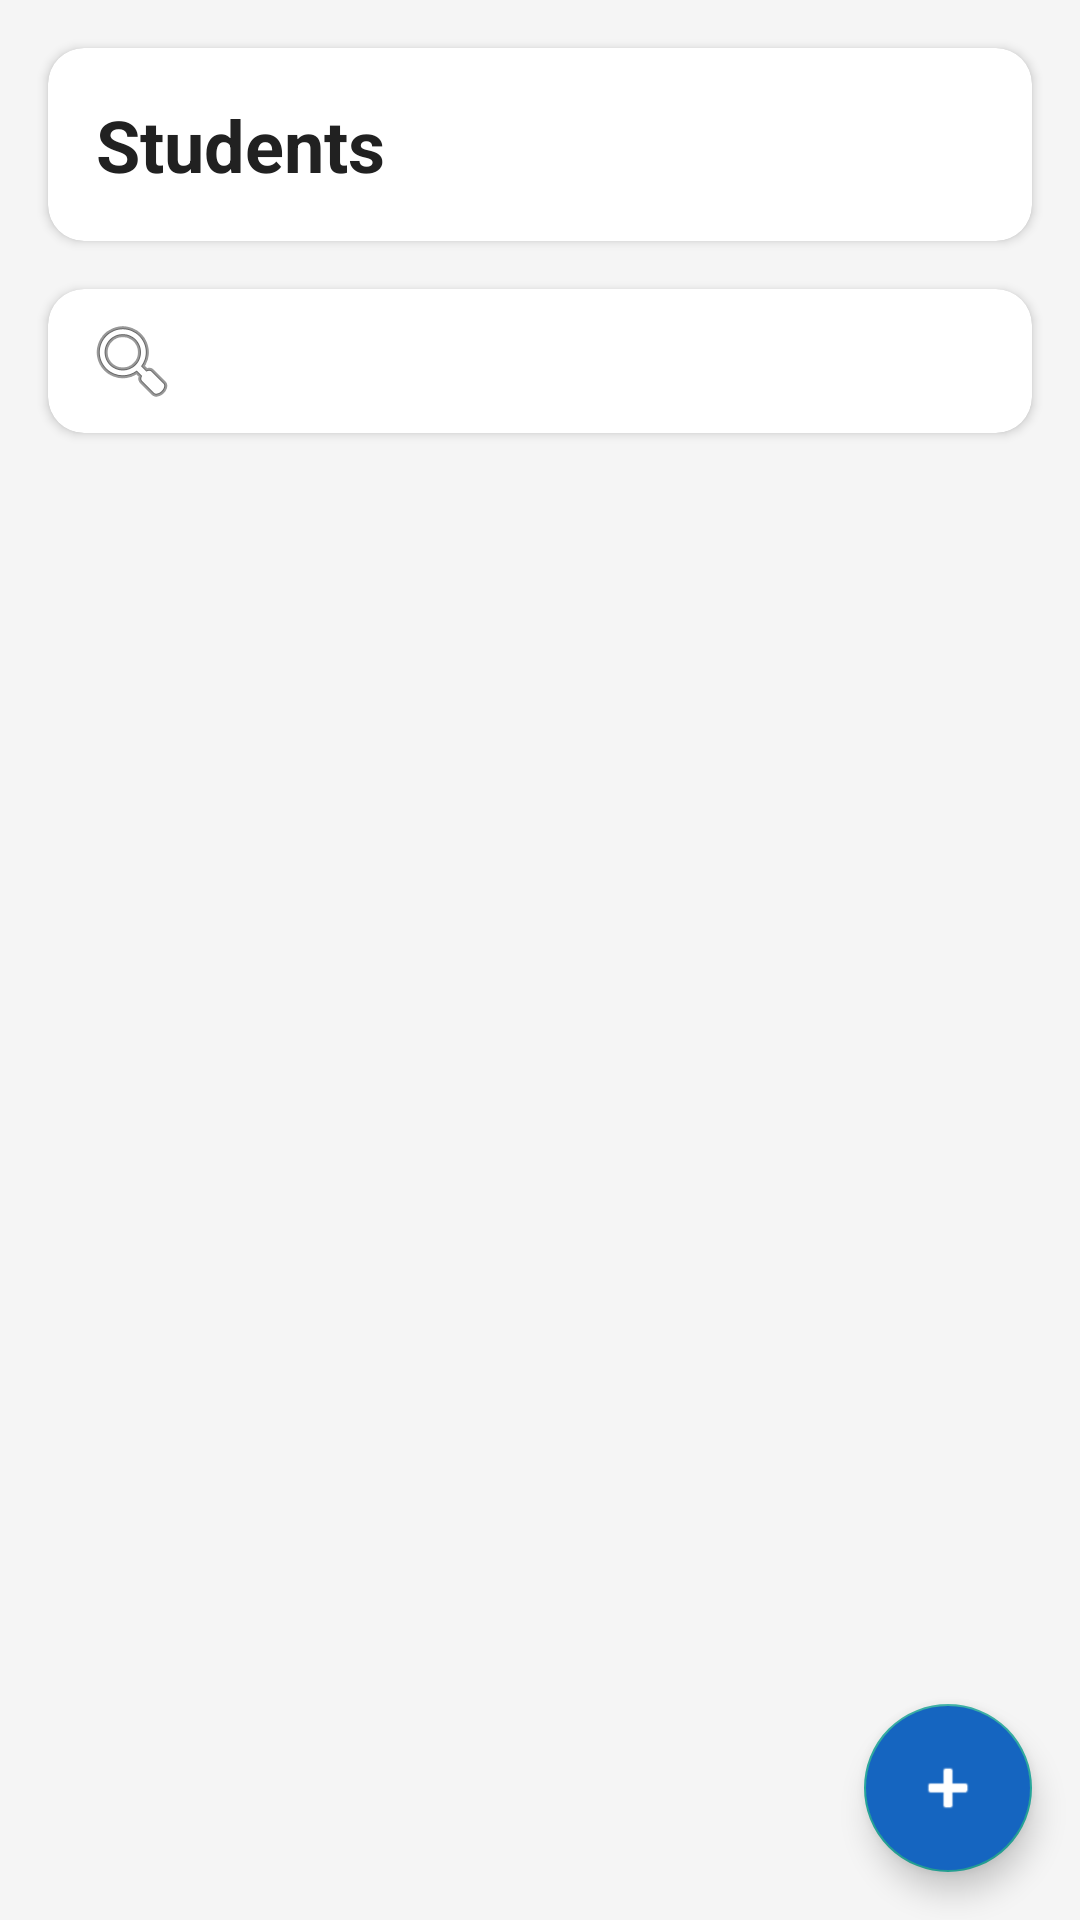

Icons on this 1080px×1920px Android screen, each with the point to tap as point (x, y):
Add student: point (948, 1788)
